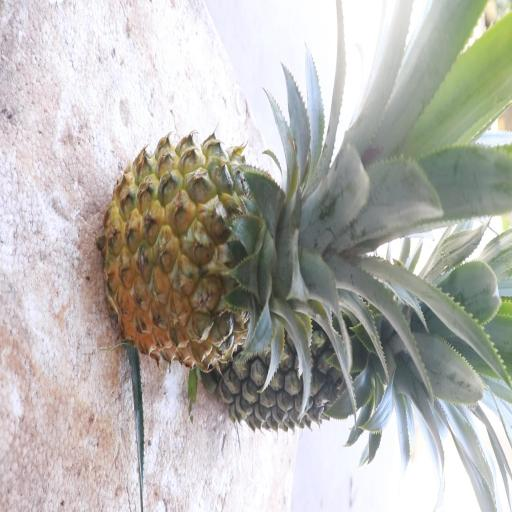Pineapple - v8 v1: (101, 129, 358, 375)
